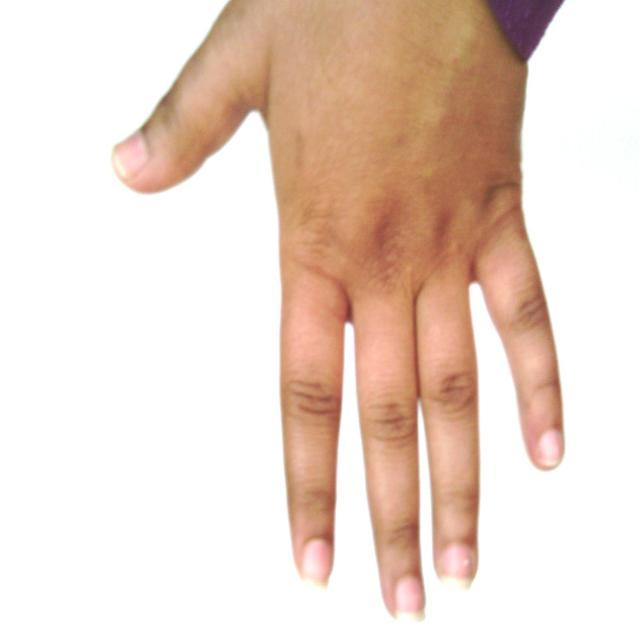Fingernail: (114, 133, 148, 179), (440, 545, 473, 590), (302, 539, 330, 588), (395, 577, 424, 623), (537, 431, 562, 466)
